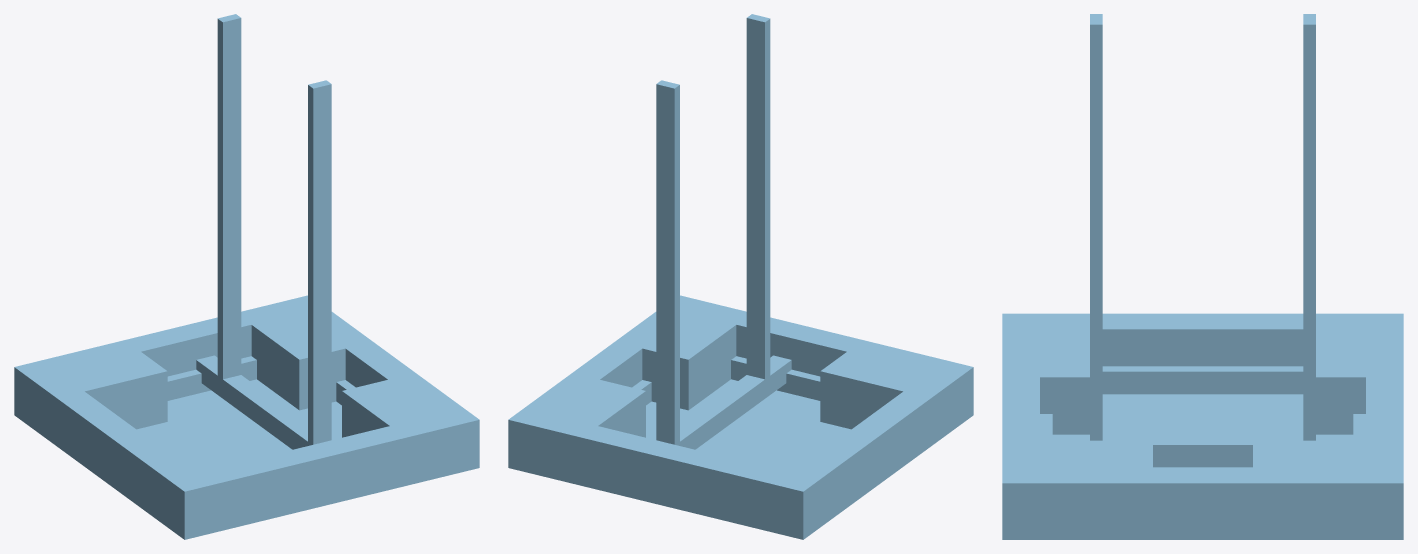
3 renders of one model, left to right at view 1: azimuth 30°, elevation 25°; view 2: azimuth 150°, elevation 25°; view 3: azimuth 270°, elevation 25°, orthographic. The views are drawn at different scales.
Visible parts, largest first — view 1: Part 1; view 2: Part 1; view 3: Part 1.
Boxes of the visible parts, box(x1,y1,x2,y2) form: Part 1: box(14, 14, 479, 539); Part 1: box(508, 14, 973, 539); Part 1: box(1002, 14, 1403, 539).
Bounding box in the file's own units: 0.8128 × 1.02 × 0.8128.
